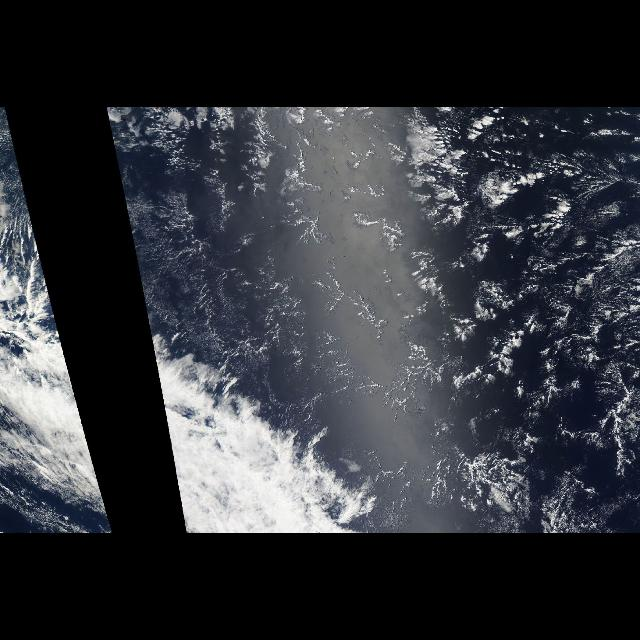Fish: (385, 242, 637, 448)
Sugar: (492, 126, 638, 462), (117, 168, 329, 358)
